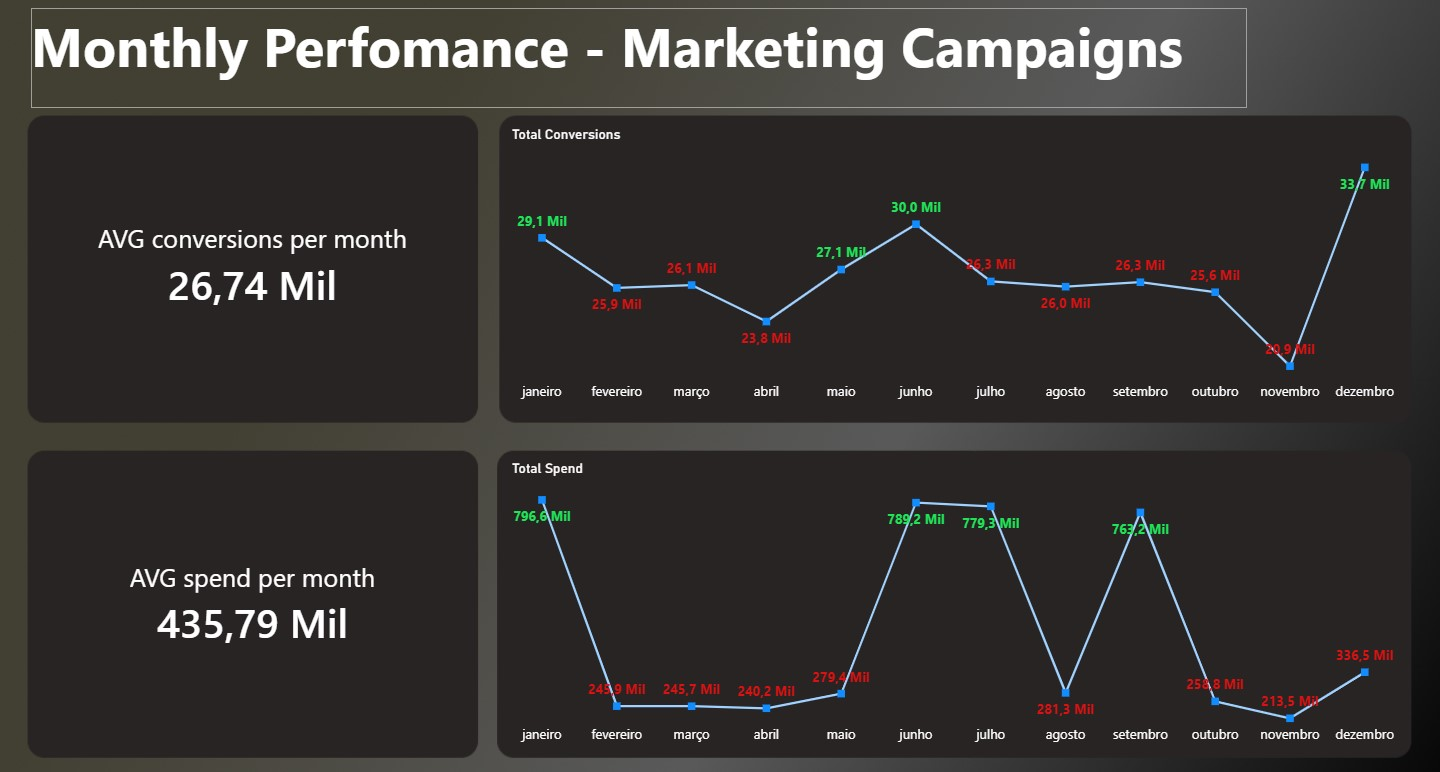

This screenshot's page, from the dashboard's own definition file:
{"tool":"powerbi","page":{"name":"Monthly Perfomance","canvas":[1920,1080],"ordinal":1},"visuals":[{"type":"lineChart","title":"Total Conversions","fields":{"Category":["marketing_campaign_data_messy.End_Date.Variação.Hierarquia de datas.Trimestre","marketing_campaign_data_messy.End_Date.Variação.Hierarquia de datas.Mês","marketing_campaign_data_messy.End_Date.Variação.Hierarquia de datas.Dia"],"Y":["Medidas.Conversions by channel"]},"box":[669.7,163.3,1204.9,397.6],"z":0},{"type":"lineChart","title":"Total Spend","fields":{"Category":["marketing_campaign_data_messy.End_Date.Variação.Hierarquia de datas.Trimestre","marketing_campaign_data_messy.End_Date.Variação.Hierarquia de datas.Mês","marketing_campaign_data_messy.End_Date.Variação.Hierarquia de datas.Dia"],"Y":["Medidas.Spend by Channel"]},"box":[669.7,604.7,1204.9,409.7],"z":1000},{"type":"cardVisual","fields":{"Data":["Medidas.Média Mensal Conversões"]},"box":[45.4,163.3,594.1,397.6],"z":2000},{"type":"cardVisual","fields":{"Data":["Medidas.AVG spend by month"]},"box":[45.4,604.7,594.1,409.7],"z":3000},{"type":"textbox","box":[48.4,19.7,1610.1,133],"z":4000}]}

Visuals, with their boxes on the page's 1920x1080 design canvas (x1, y1, x2, y2). These are canvas units, not pixel positions in the 1440x772 screenshot, which may show the page scaled, cropped or inside an application window:
"Total Conversions" lineChart: {"left": 670, "top": 163, "right": 1875, "bottom": 561}
"Total Spend" lineChart: {"left": 670, "top": 605, "right": 1875, "bottom": 1014}
cardVisual - Medidas.Média Mensal Conversões: {"left": 45, "top": 163, "right": 640, "bottom": 561}
cardVisual - Medidas.AVG spend by month: {"left": 45, "top": 605, "right": 640, "bottom": 1014}
textbox: {"left": 48, "top": 20, "right": 1658, "bottom": 153}
